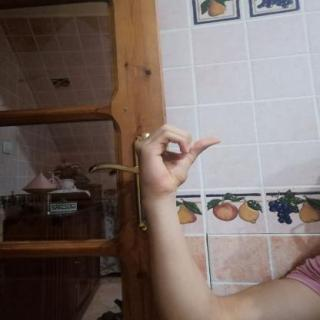WAW: (126, 116, 229, 202)
